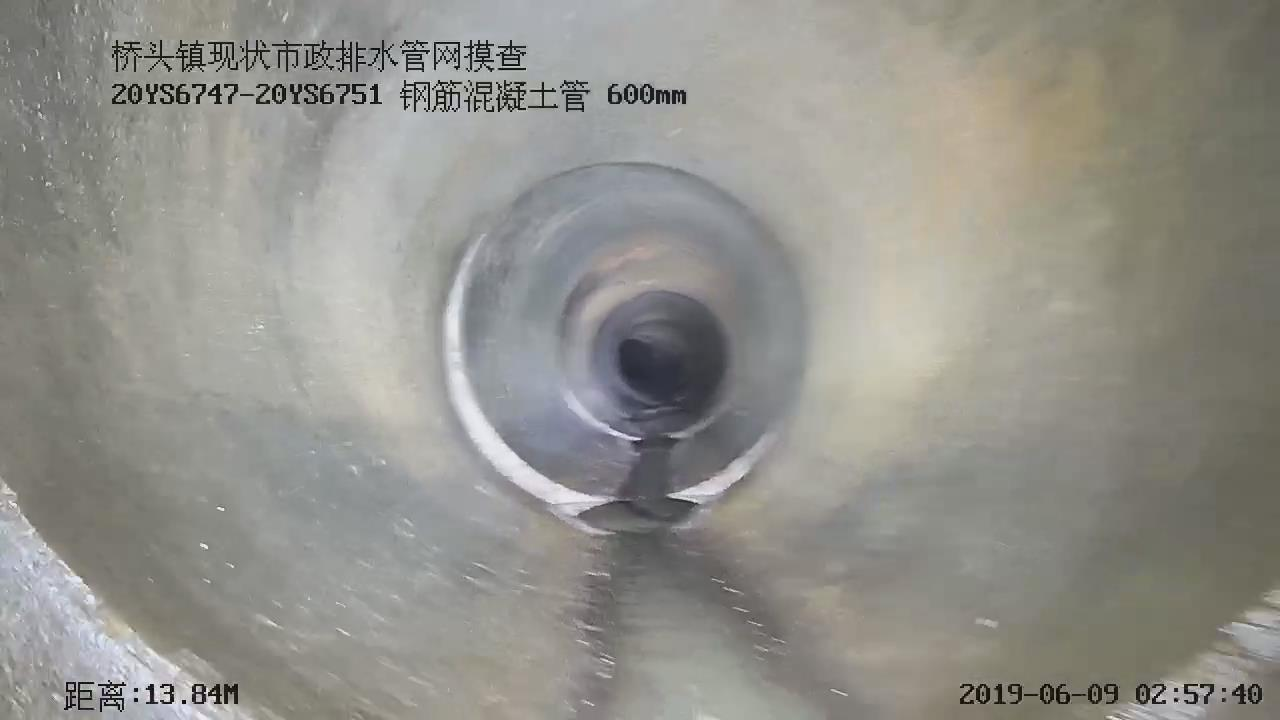CKTJ: (443, 233, 619, 533), (677, 432, 776, 504), (562, 389, 641, 442)
